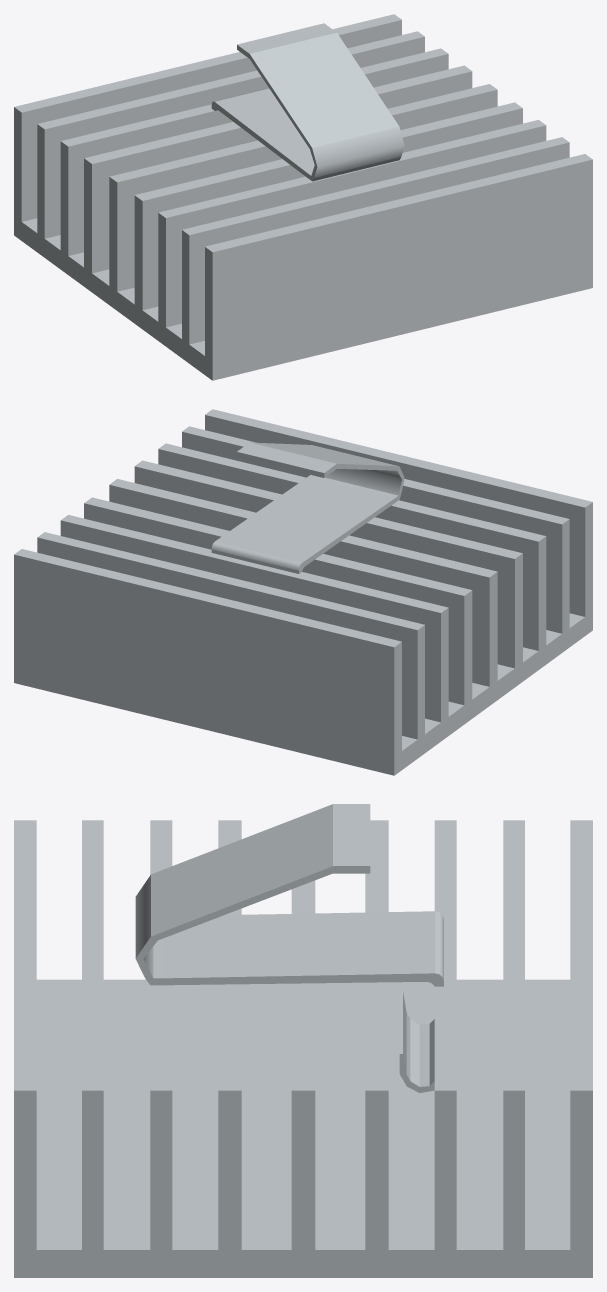
File: DU_電路板_藍_鐵片散熱片.fbx
The picture shows the model from 3 angles, top to bottom: view 1: azimuth 30°, elevation 25°; view 2: azimuth 150°, elevation 25°; view 3: azimuth 270°, elevation 25°; orthographic projection. The views are drawn at different scales.
Visible parts, largest first — view 1: pCube101, pCube100; view 2: pCube101, pCube100; view 3: pCube101, pCube100.
Part boxes in pixels (x1,y1,x2,y2): pCube101: [14, 14, 592, 380]; pCube100: [211, 23, 404, 181]; pCube101: [14, 409, 592, 775]; pCube100: [211, 442, 404, 573]; pCube101: [14, 820, 592, 1277]; pCube100: [135, 804, 443, 1092].
Bounding box in the file's own units: 4.35 × 2.31 × 3.94.
2 materials, 2 textured.
